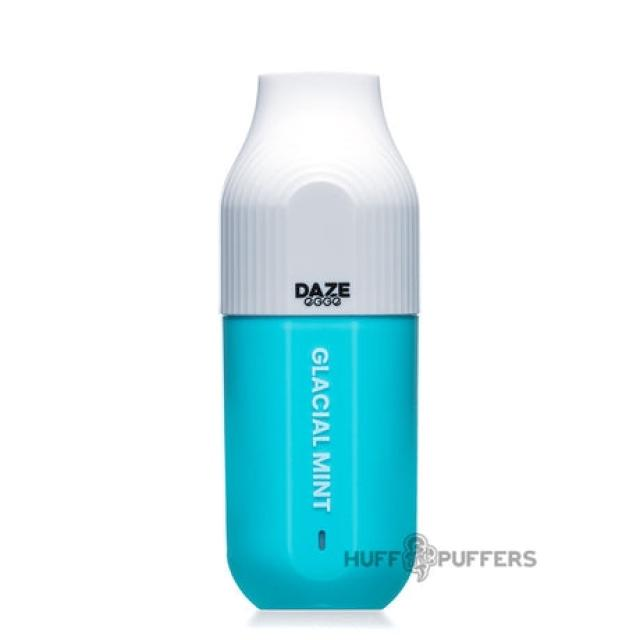Vape-images: (218, 70, 422, 610)
